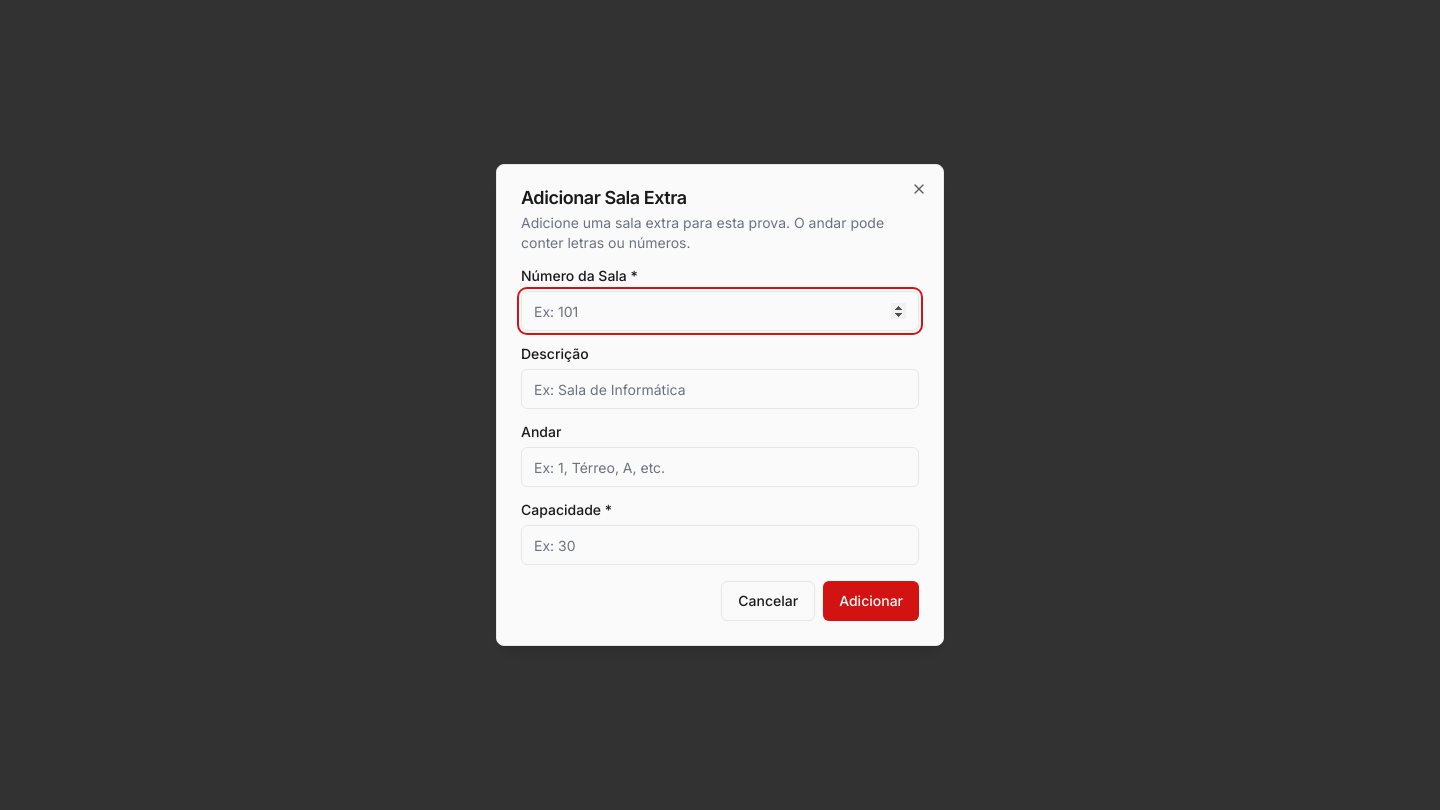
Scenario: SalaExtraDialog (interação) › a checagem que trabalha: número duplicado › corrigir o número depois do erro limpa a mensagem e passa
In the number field labelled "Número da Sala *": (720, 311) [521, 291, 919, 331], type "101"
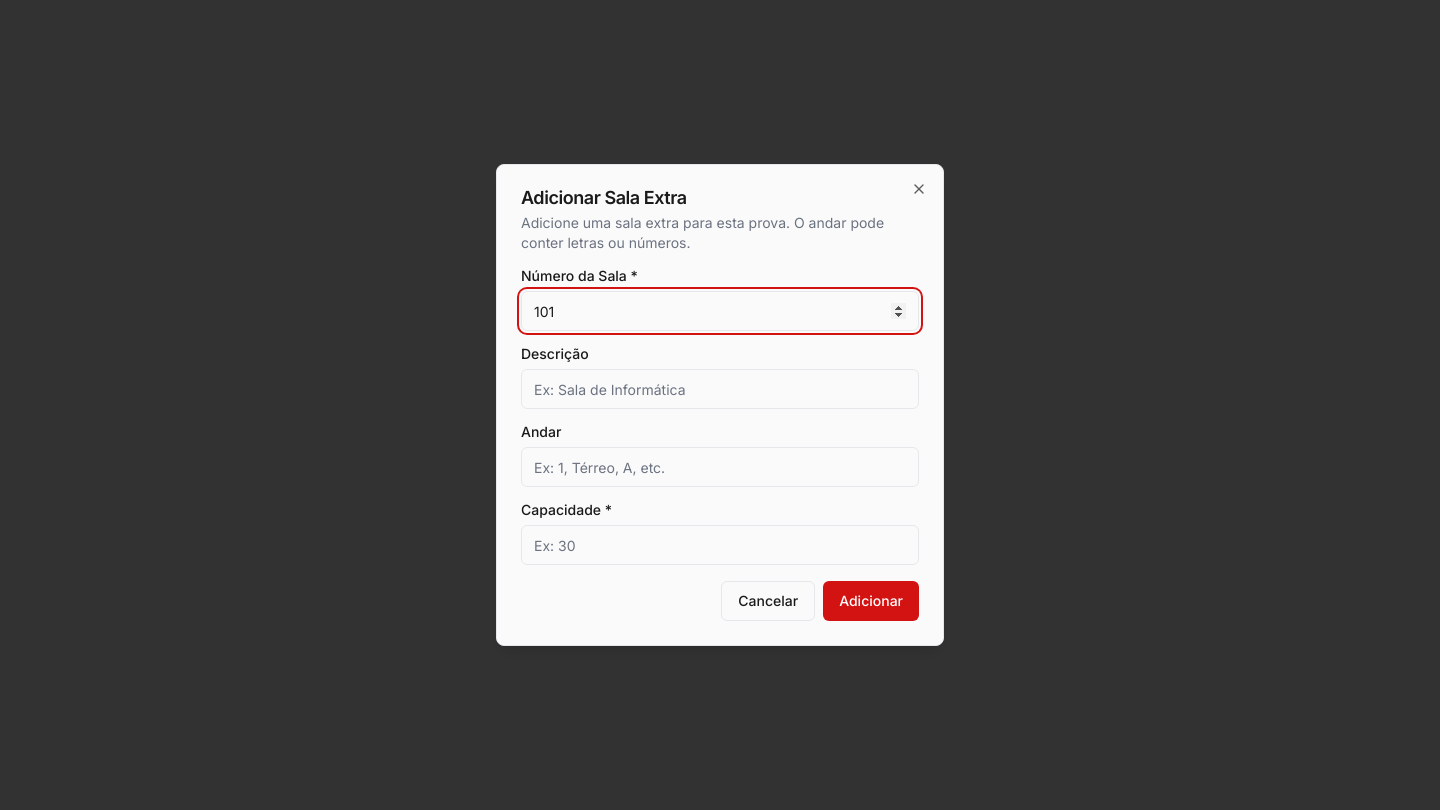
In the number field labelled "Capacidade *": (720, 545) [521, 525, 919, 565], type "30"
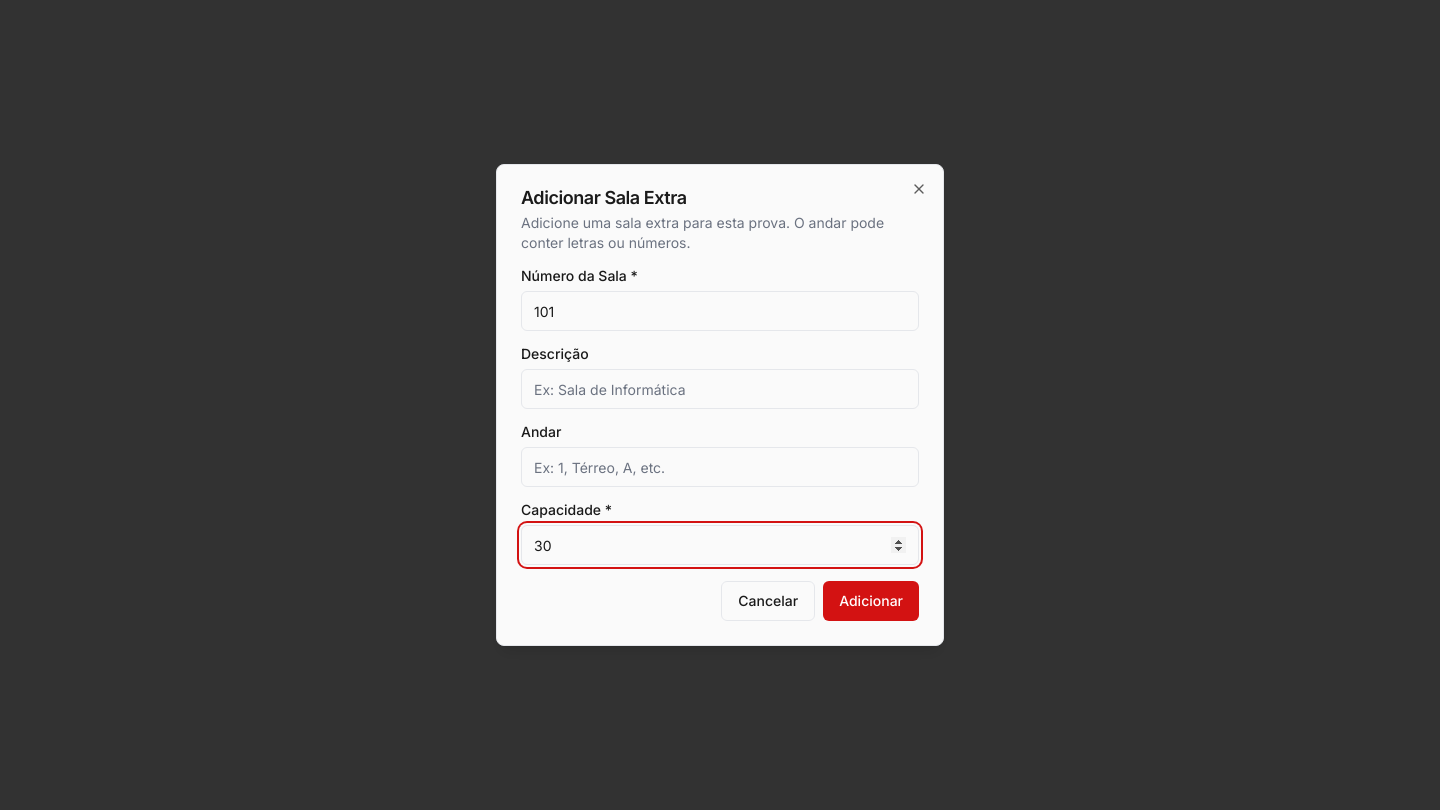
Click the button "Adicionar": click(871, 601) [823, 581, 919, 621]
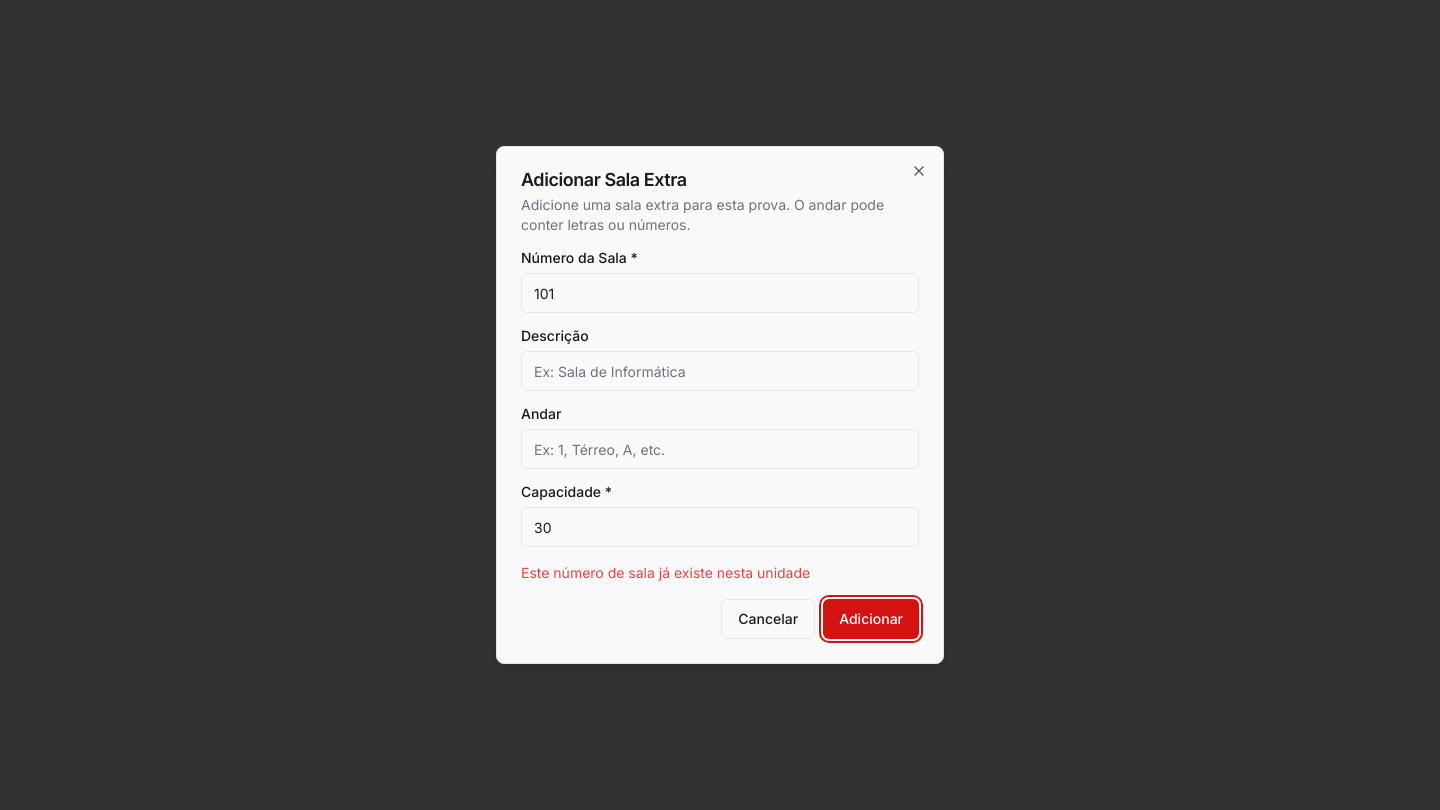
expect the text "Este número de sala já existe nesta unidade" is shown: met, box [521, 564, 810, 581]
Replace the text in the number field labelled "Número da Sala *" with "105": (720, 293) [521, 273, 919, 313]
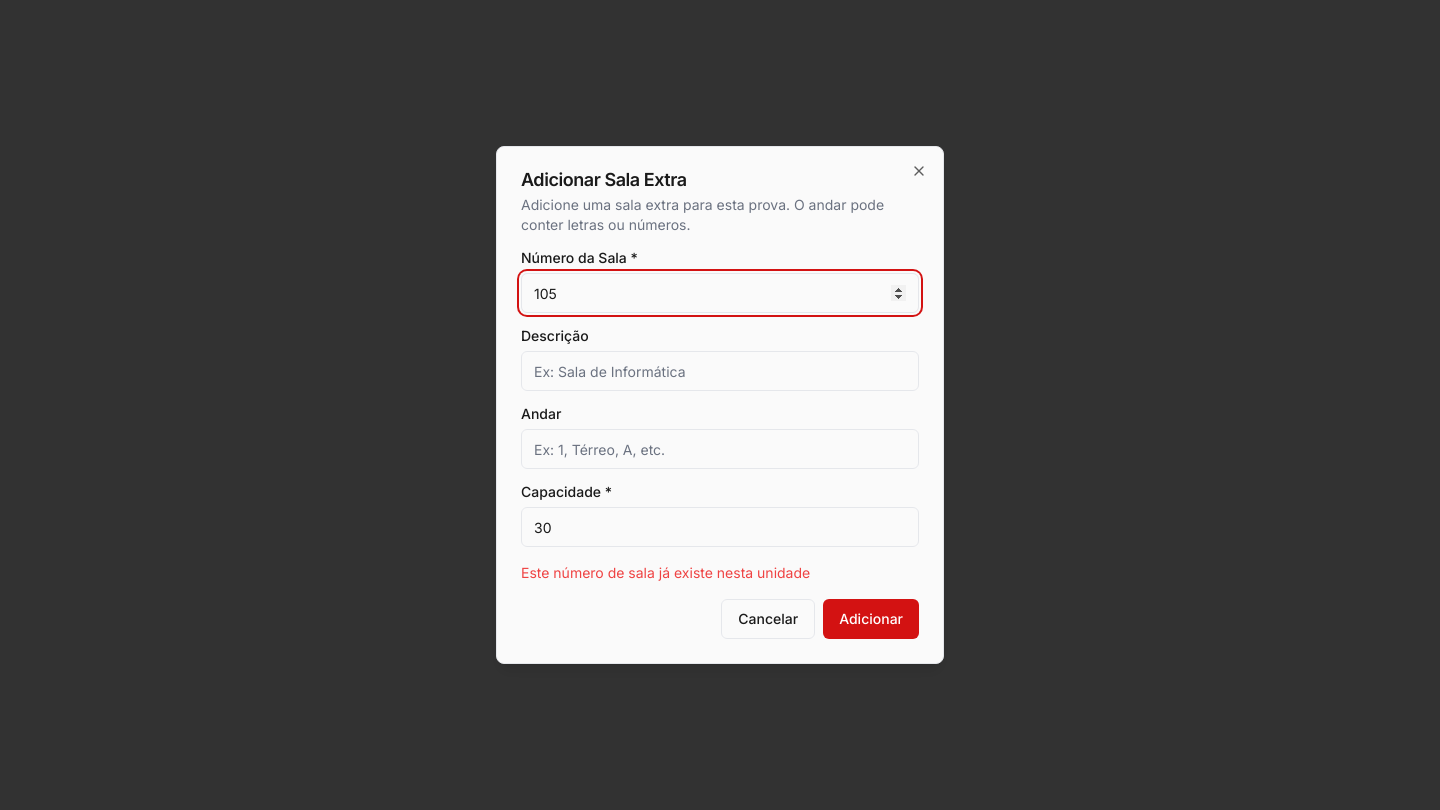
Click the button "Adicionar": click(871, 619) [823, 599, 919, 639]
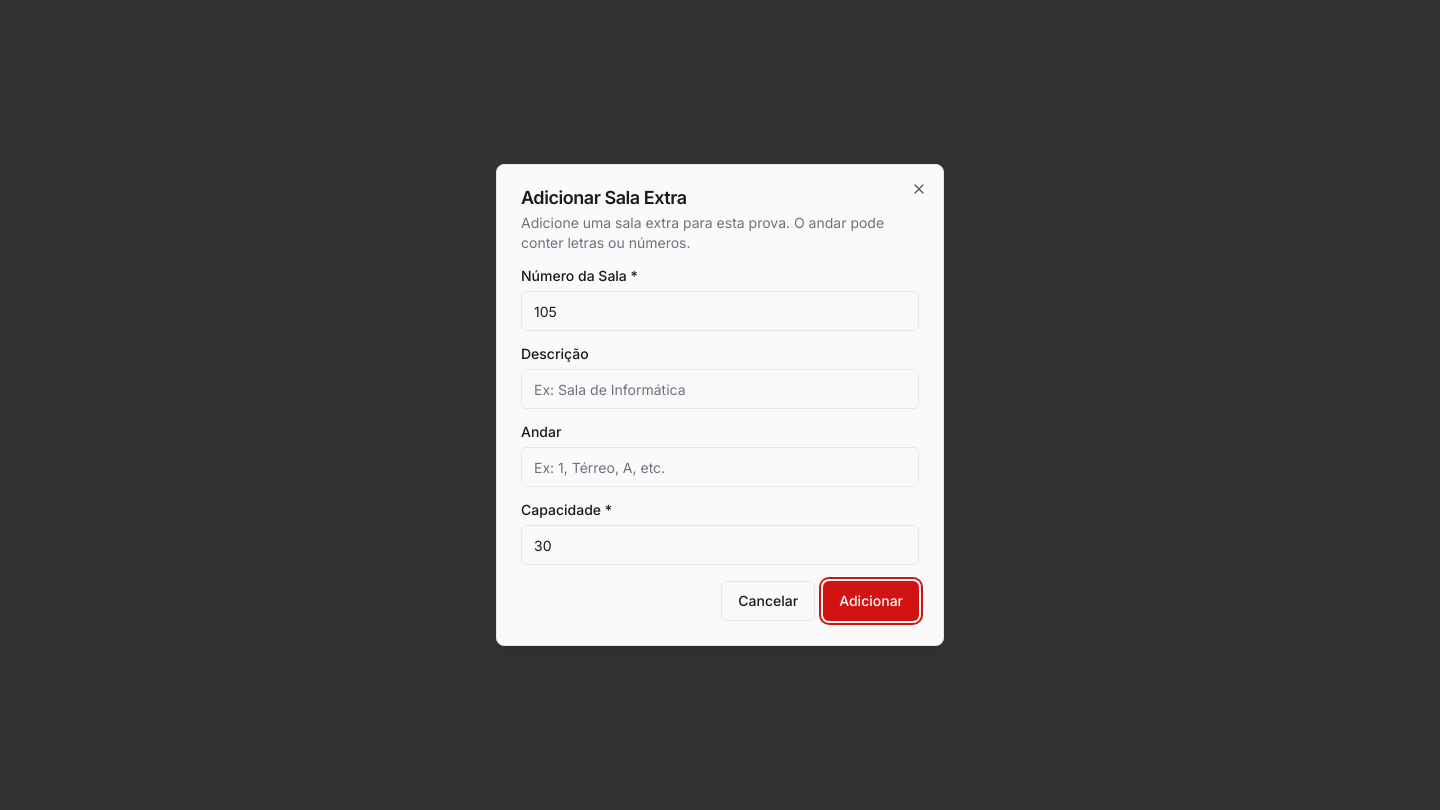
expect the text "Este número de sala já existe nesta unidade" is gone: met
